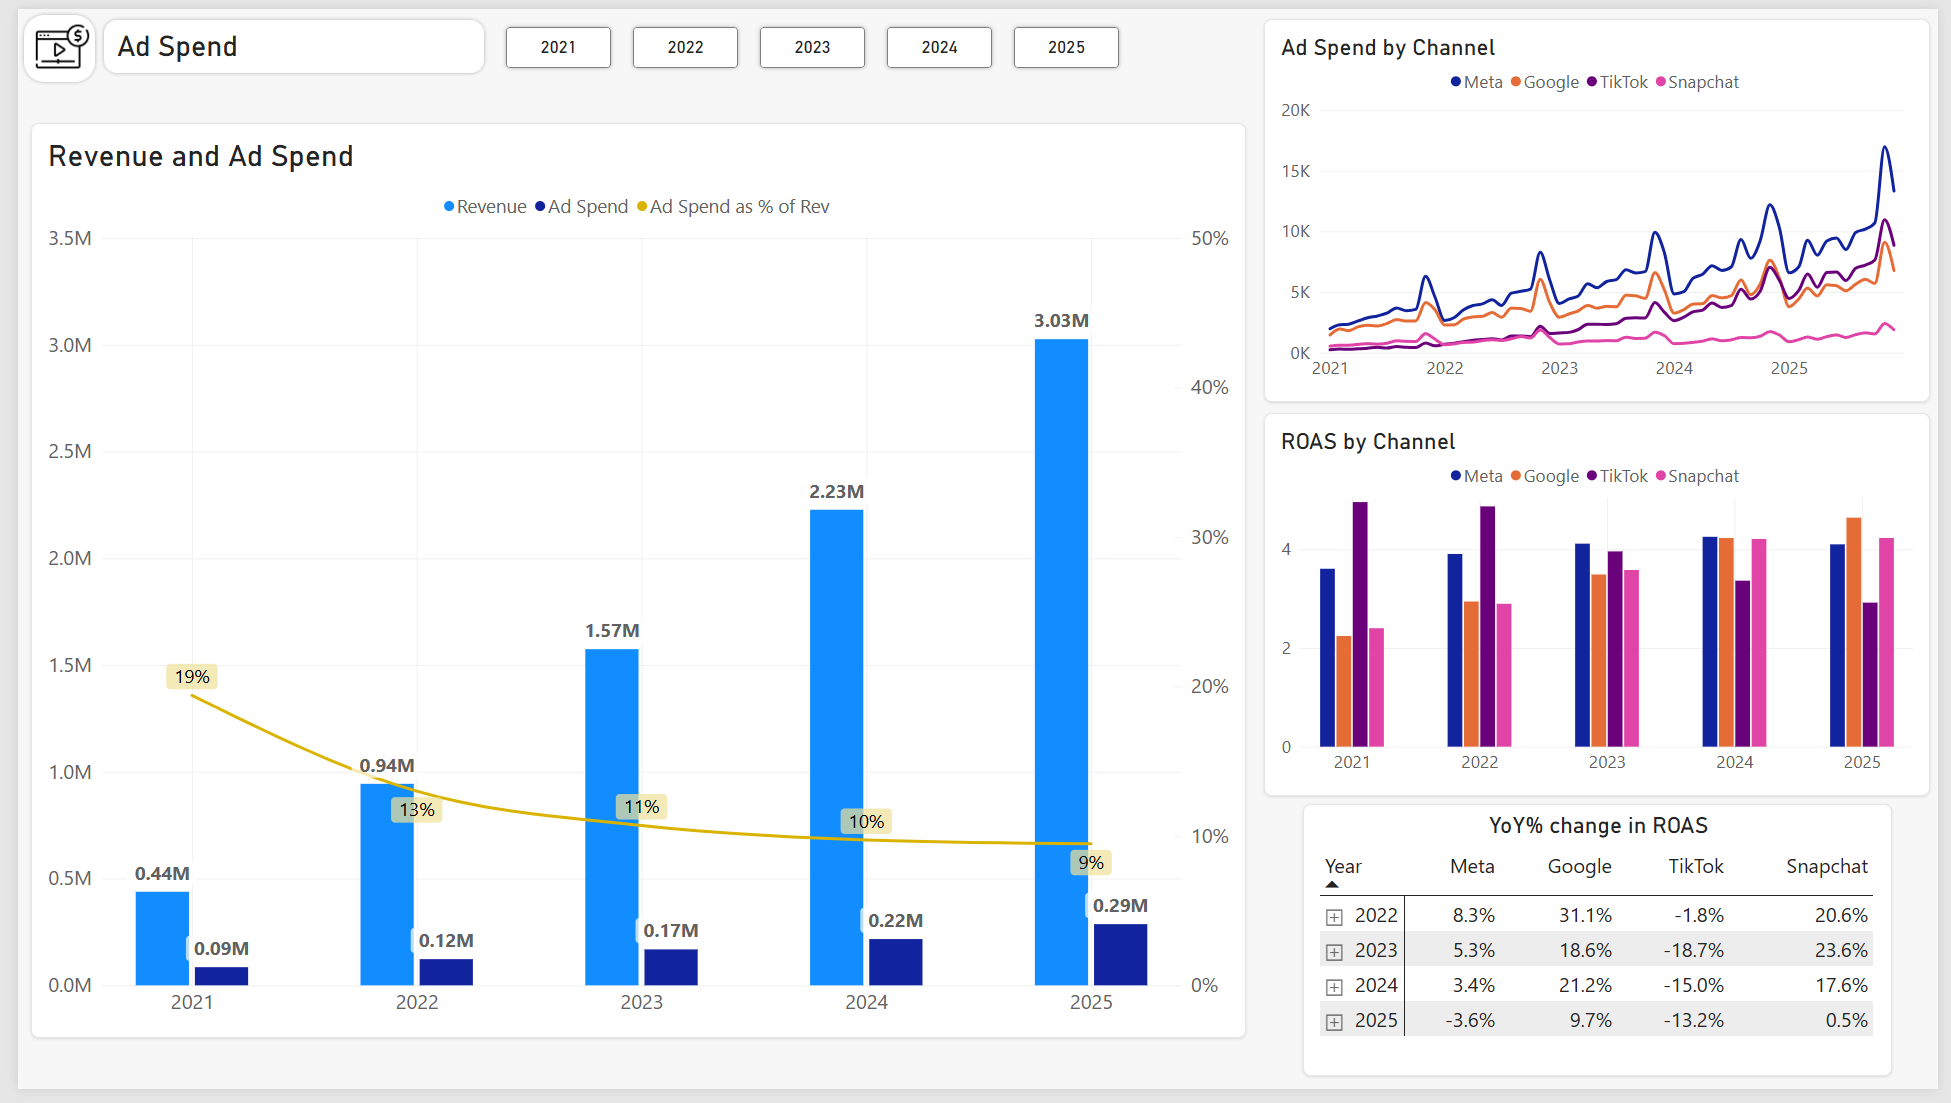

The dashboard page shown, as its layout file describes it:
{"tool":"powerbi","page":{"name":" Ad Spend","canvas":[1920,1080],"ordinal":5},"visuals":[{"type":"shape","box":[2,2,79.2,74.6],"z":0},{"type":"shape","box":[82,7,388.3,61.3],"z":1000},{"type":"lineChart","title":"Ad Spend by Channel","fields":{"Y":["Sum(dtc fact_ad_spend.spend)"],"Category":["dtc dim_date.date.Variation.Date Hierarchy.Year","dtc dim_date.date.Variation.Date Hierarchy.Quarter","dtc dim_date.date.Variation.Date Hierarchy.Month","dtc dim_date.date.Variation.Date Hierarchy.Day"],"Series":["dtc dim_channel.channel_name"]},"box":[1245.6,10.4,666.3,382.4],"z":2000},{"type":"lineClusteredColumnComboChart","title":"Revenue and Ad Spend","fields":{"Category":["dtc dim_date.date.Variation.Date Hierarchy.Year","dtc dim_date.date.Variation.Date Hierarchy.Quarter","dtc dim_date.date.Variation.Date Hierarchy.Month"],"Y":["Sum(dtc fact_orders.net_revenue)","Sum(dtc fact_ad_spend.spend)"],"Y2":["dtc fact_orders.Sum of spend divided by Sum of net_revenue"]},"box":[12.8,113.6,1215.4,915],"z":3000},{"type":"clusteredColumnChart","title":"ROAS by Channel","fields":{"Category":["dtc dim_date.date.Variation.Date Hierarchy.Year","dtc dim_date.date.Variation.Date Hierarchy.Quarter","dtc dim_date.date.Variation.Date Hierarchy.Month","dtc dim_date.date.Variation.Date Hierarchy.Day"],"Series":["dtc dim_channel.channel_name"],"Y":["dtc fact_orders.ROAS"]},"box":[1245.6,404.4,666.3,382.4],"z":4000},{"type":"pivotTable","title":"YoY% change in ROAS","fields":{"Rows":["dtc dim_date.date.Variation.Date Hierarchy.Year","dtc dim_date.date.Variation.Date Hierarchy.Quarter","dtc dim_date.date.Variation.Date Hierarchy.Month"],"Columns":["dtc dim_channel.channel_name"],"Values":["dtc fact_orders.ROAS YoY%"]},"box":[1285,794.9,588.6,272.3],"z":5000},{"type":"textbox","box":[99,20,350,39.6],"z":6000},{"type":"image","box":[11.9,6.9,65.2,61.3],"z":7000},{"type":"advancedSlicerVisual","fields":{"Values":["dtc dim_date.date.Variation.Date Hierarchy.Year"]},"box":[481,11,629.3,55],"z":8000}]}

Visuals, with their boxes in screenshot pixels (x1, y1, x2, y2), scaled from the page's 1920x1080 canvas onto the 1951x1103 screenshot:
shape: (x1=2, y1=2, x2=83, y2=78)
shape: (x1=83, y1=7, x2=478, y2=70)
"Ad Spend by Channel" lineChart: (x1=1266, y1=11, x2=1943, y2=401)
"Revenue and Ad Spend" lineClusteredColumnComboChart: (x1=13, y1=116, x2=1248, y2=1051)
"ROAS by Channel" clusteredColumnChart: (x1=1266, y1=413, x2=1943, y2=804)
"YoY% change in ROAS" pivotTable: (x1=1306, y1=812, x2=1904, y2=1090)
textbox: (x1=101, y1=20, x2=456, y2=61)
image: (x1=12, y1=7, x2=78, y2=70)
advancedSlicerVisual - dtc dim_date.date.Variation.Date Hierarchy.Year: (x1=489, y1=11, x2=1128, y2=67)
